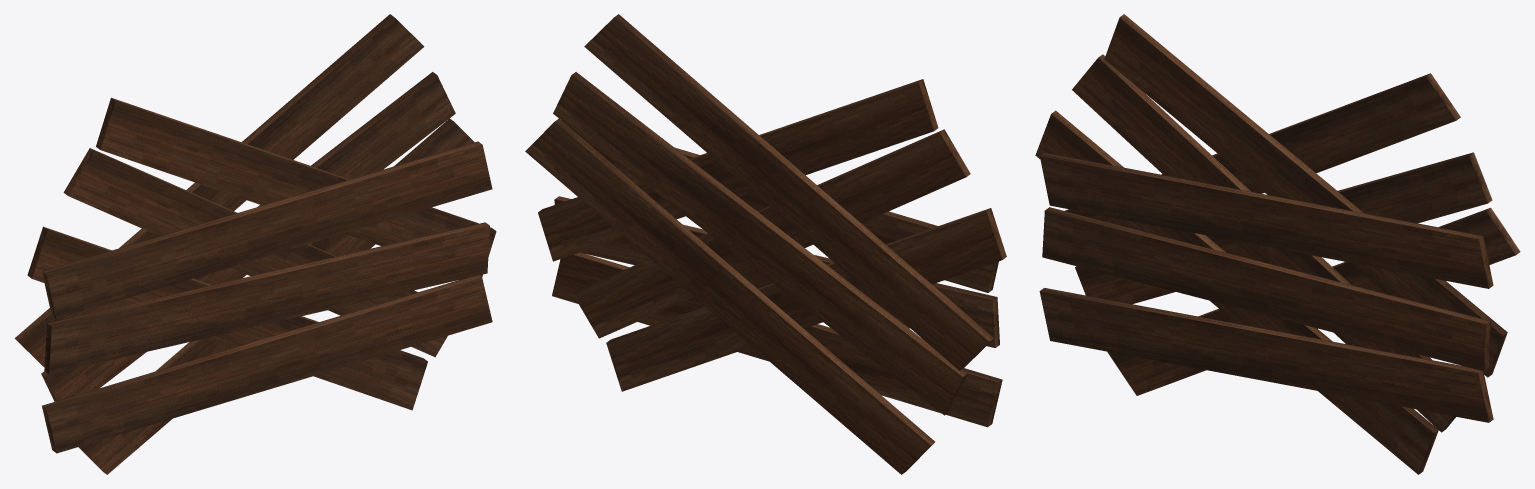
File: planks.glb
3 views of the same model, side by side, from view 1: azimuth 30°, elevation 25°; view 2: azimuth 150°, elevation 25°; view 3: azimuth 330°, elevation 25° (orthographic).
Parts seen in each view (by area): view 1: planks-col; view 2: planks-col; view 3: planks-col.
Part boxes in pixels (x1,y1,x2,y2): planks-col: (14, 14, 496, 474); planks-col: (525, 14, 1006, 474); planks-col: (1035, 14, 1520, 474).
Size of the model in its own units: 5.47 by 4.36 by 0.4583.
1 material, 1 textured.
